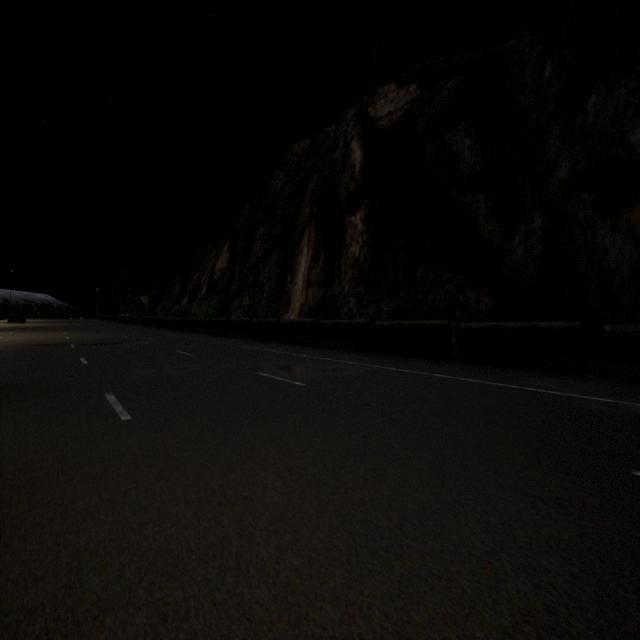Vehicle: (7, 311, 26, 324)
